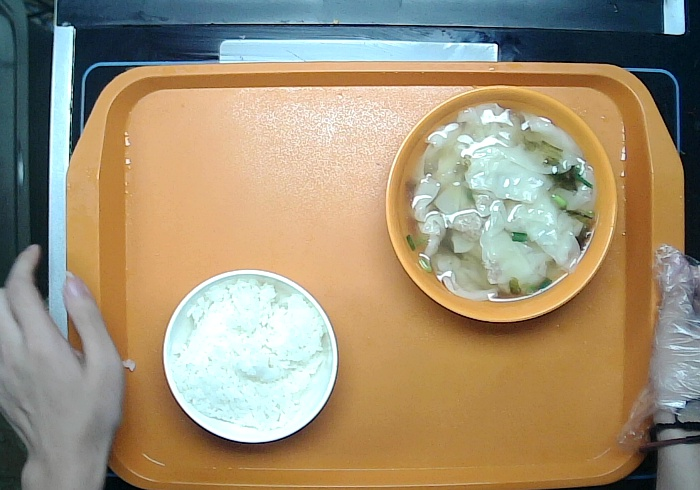NLDX-Fan_Wan: (157, 266, 341, 451)
NLDX-Hun_Tun_Wan: (379, 81, 625, 328)
